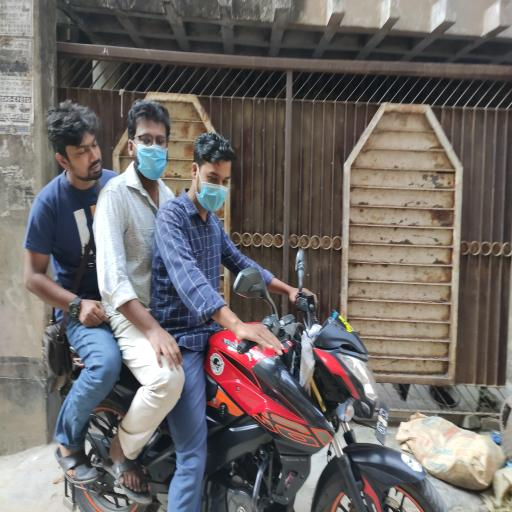helmet: (194, 162, 229, 214)
overloading: (48, 252, 446, 510)
